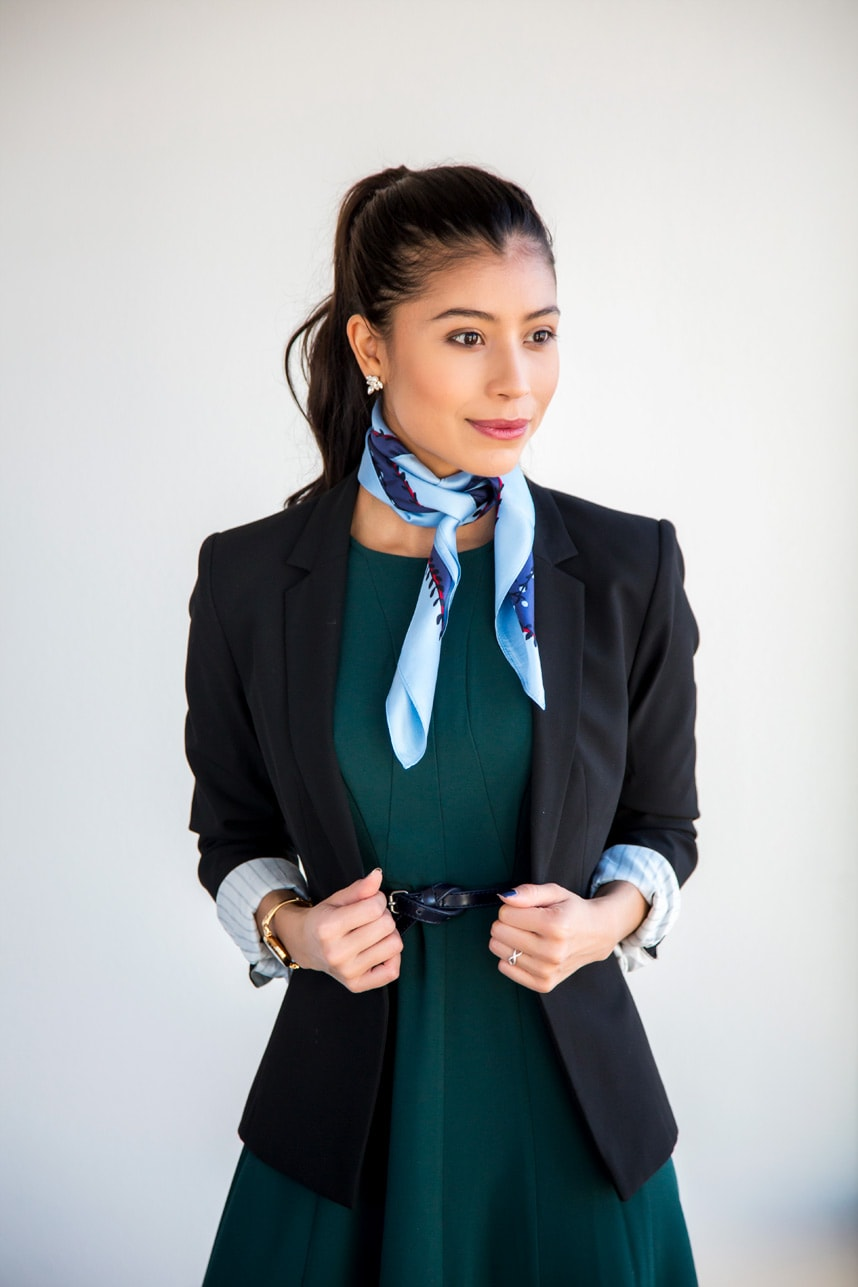F_W_suit jacket: (175, 483, 719, 1168)
